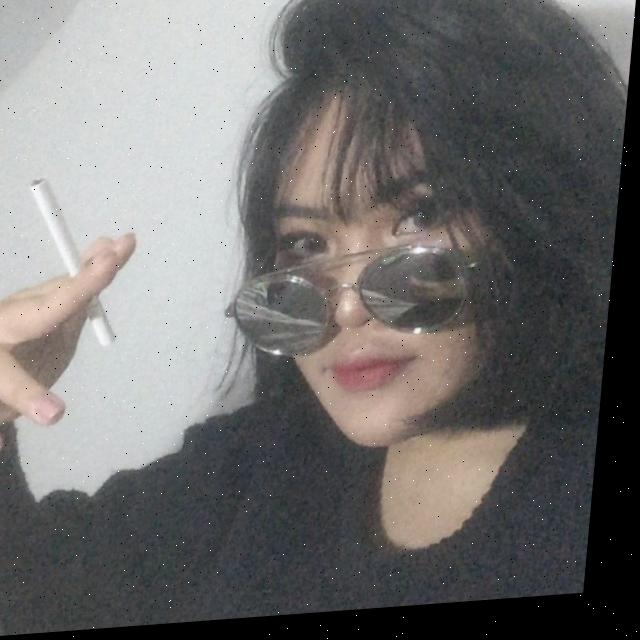cigarette: (20, 173, 134, 355)
